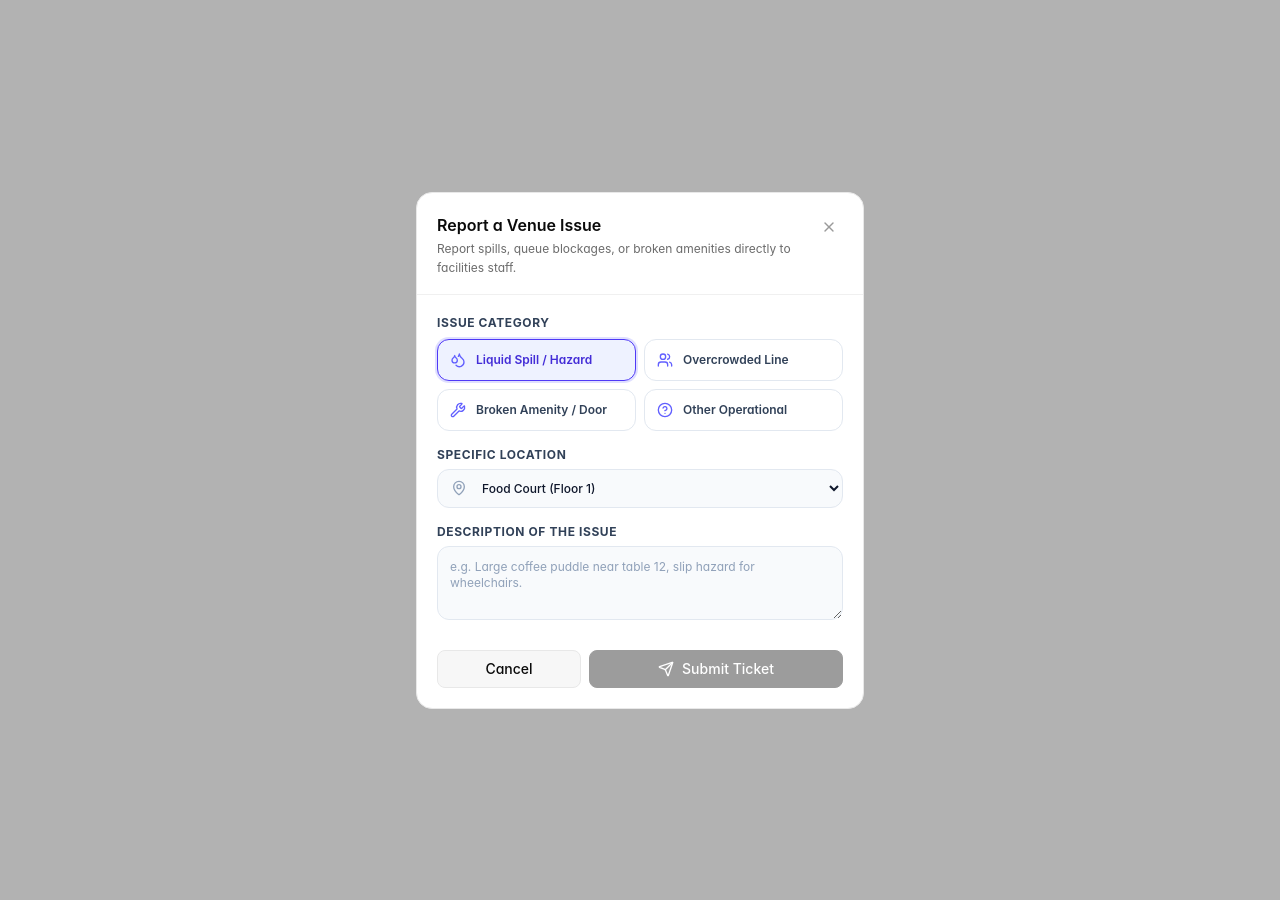
Test: IssueReportModal Component › should show success confirmation after submission
Replace the text in the text box with placeholder "Large coffee puddle" with "Valid issue description" at (640, 582), box [437, 546, 843, 620]
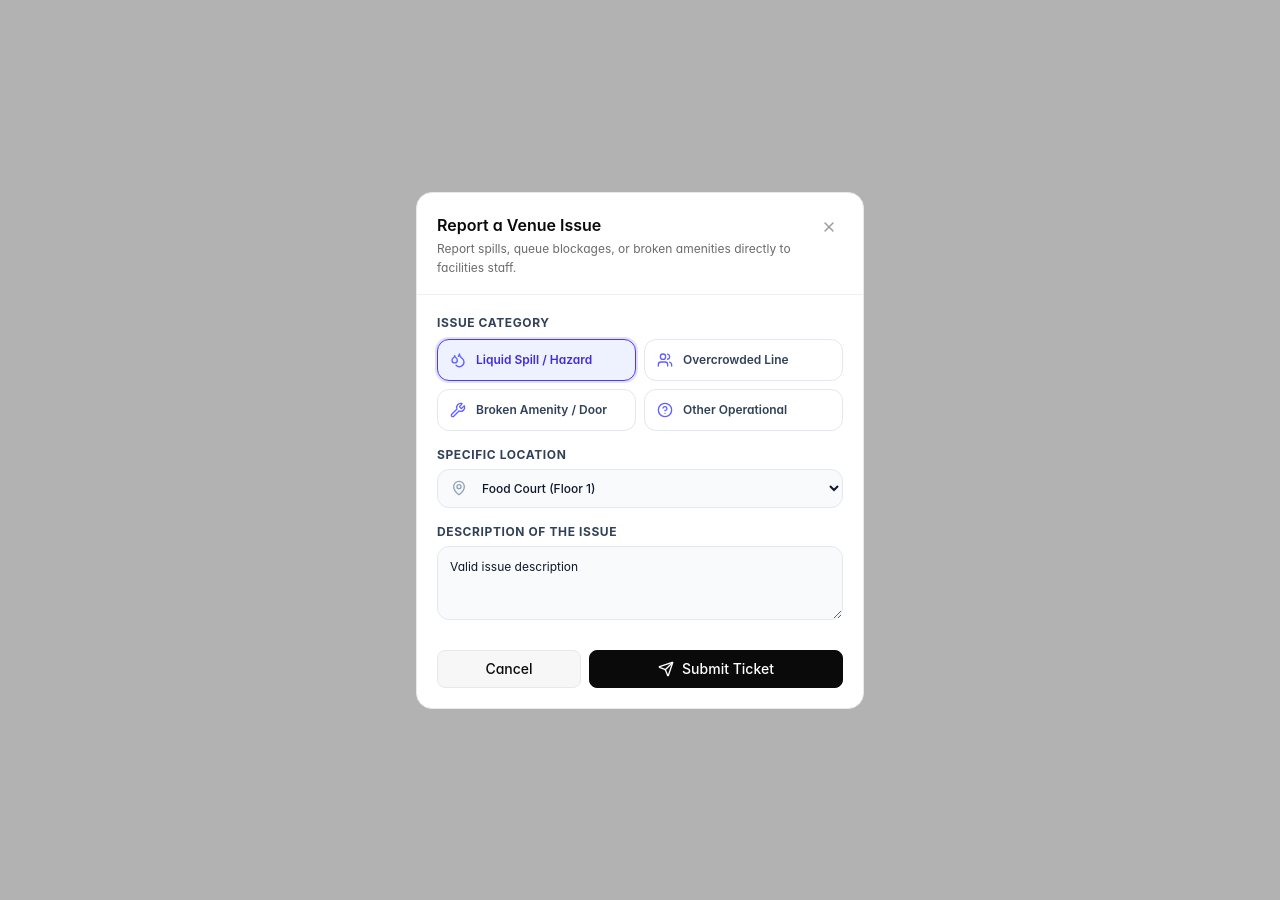
Click the button "Submit Ticket" at (716, 668), box [589, 650, 843, 688]
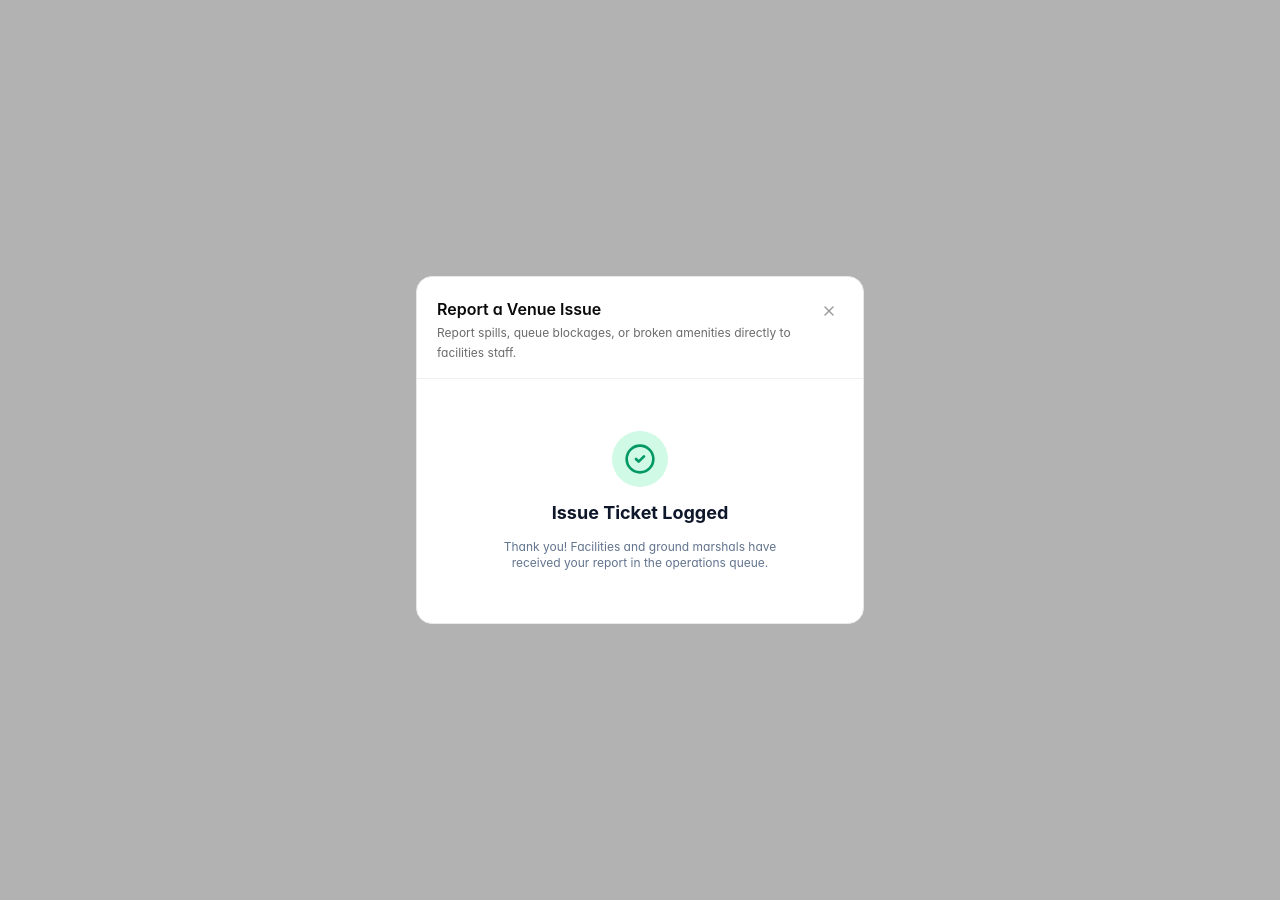
Check: the heading "Issue Ticket Logged" is shown, box [552, 502, 728, 523]
